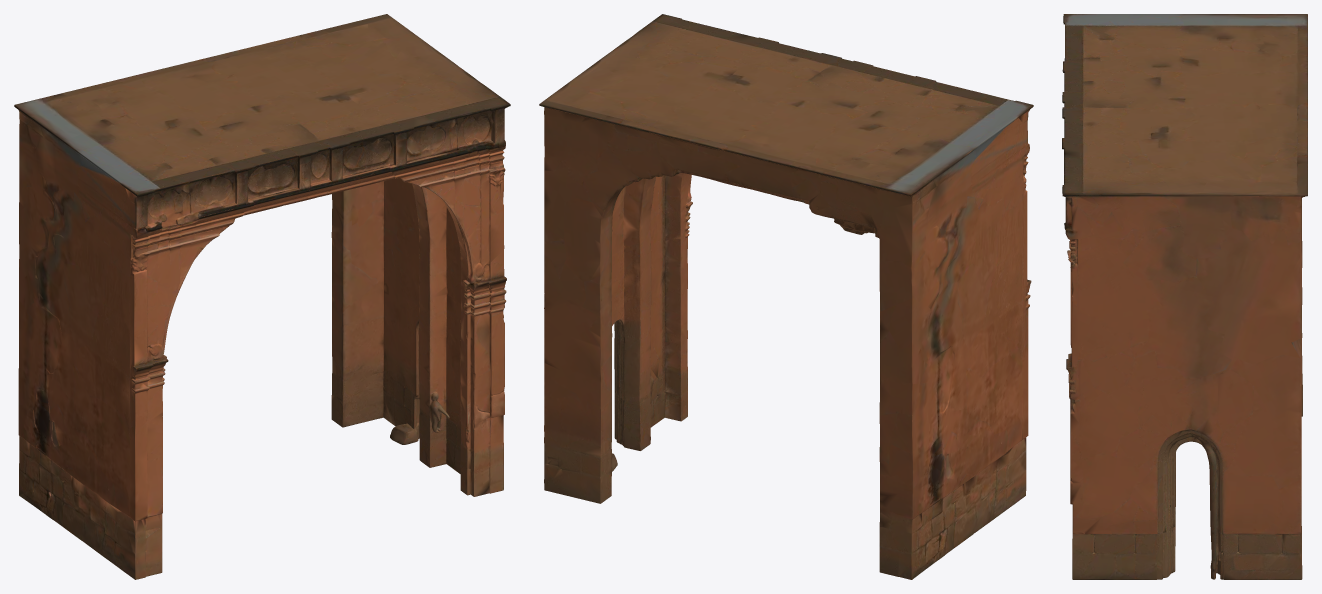
File: fort-gateway.glb
The picture shows the model from 3 angles, left to right: view 1: azimuth 30°, elevation 25°; view 2: azimuth 150°, elevation 25°; view 3: azimuth 270°, elevation 25°; orthographic projection.
Bounding box in the file's own units: 1.9 × 1.9 × 1.09.
1 material, 1 textured.
